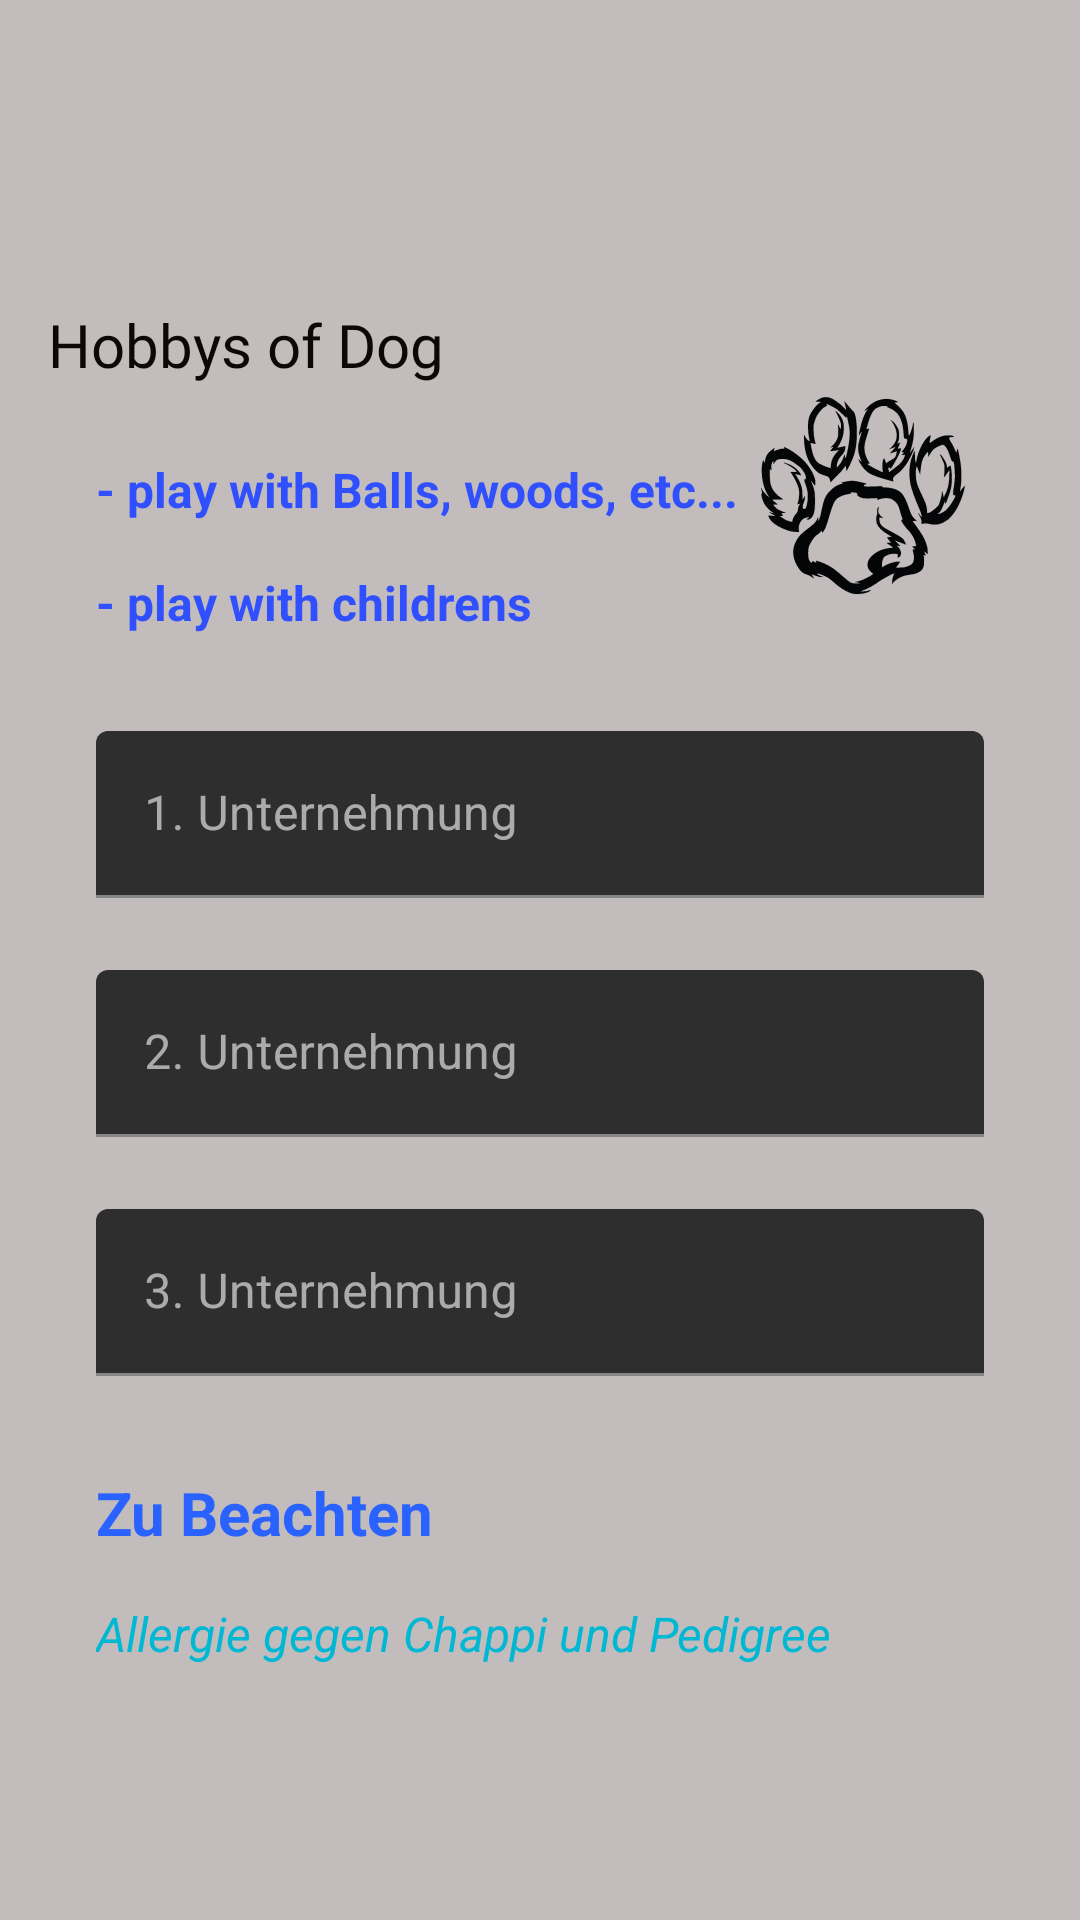

Screen size 1080px x 1920px. Icon name, then its box in pixels as (x1, y1, x2, y2):
paw: (761, 397, 965, 594)
